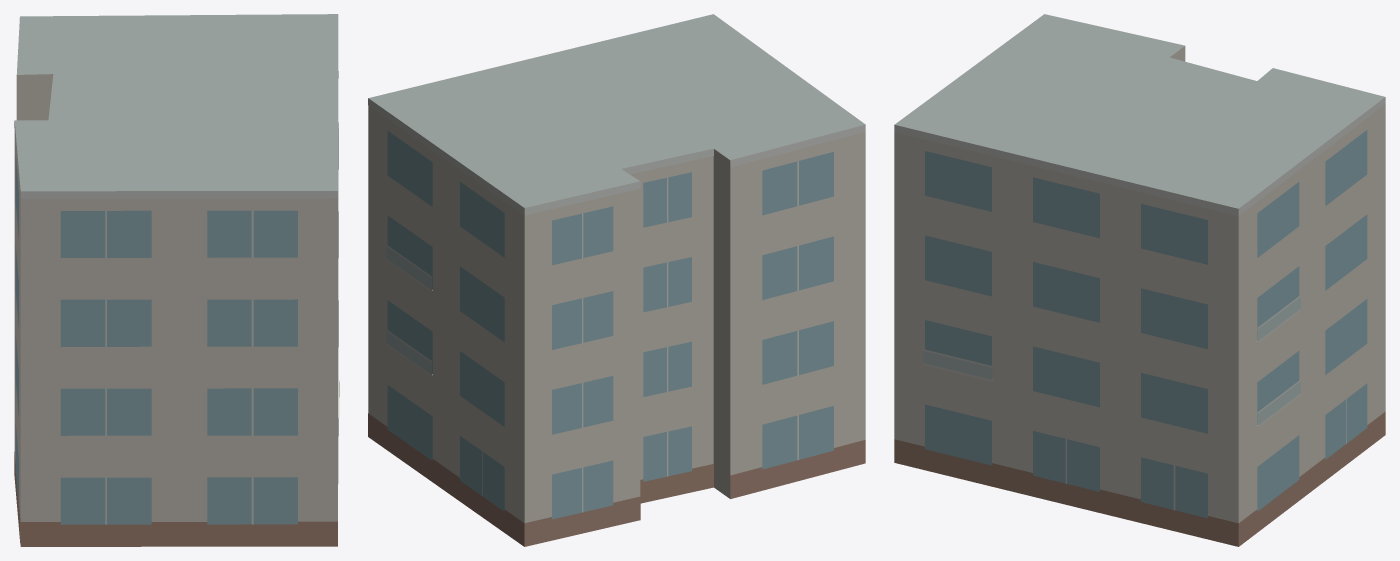
Rendered from survey-upis-32954533.glb.
3 views of the same model, side by side, from view 1: azimuth 30°, elevation 25°; view 2: azimuth 150°, elevation 25°; view 3: azimuth 270°, elevation 25° (orthographic). The views are drawn at different scales.
Visible parts, largest first — view 1: survey-upis-32954533.tmp; view 2: survey-upis-32954533.tmp; view 3: survey-upis-32954533.tmp.
Boxes of the visible parts, left/top/right/bottom form: survey-upis-32954533.tmp: left=14, top=14, right=339, bottom=546; survey-upis-32954533.tmp: left=368, top=14, right=865, bottom=546; survey-upis-32954533.tmp: left=894, top=14, right=1385, bottom=546.
Size of the model in its own units: 14 by 11.32 by 14.92.
